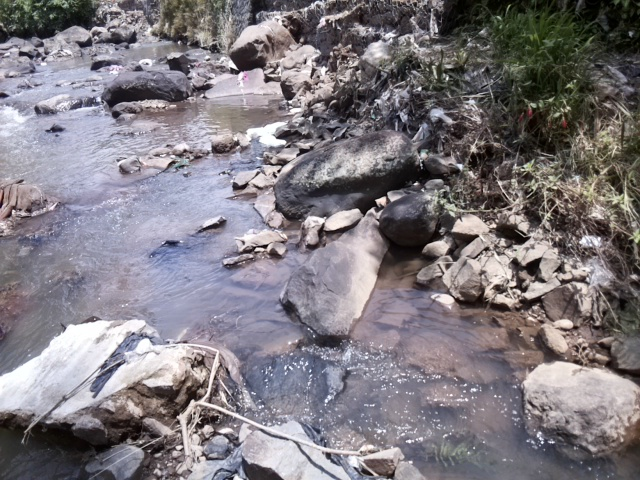Sampah_Plastik: (86, 331, 153, 397)
